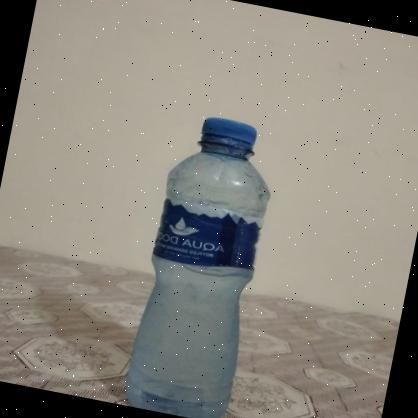bottle: (121, 110, 283, 418)
cap: (198, 115, 260, 150)
label: (152, 196, 266, 277)
